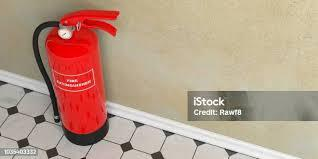floor-kept: (21, 6, 137, 147)
